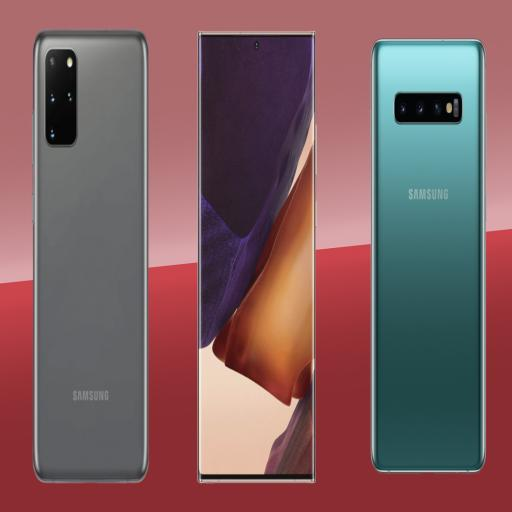phone: (198, 30, 316, 488)
